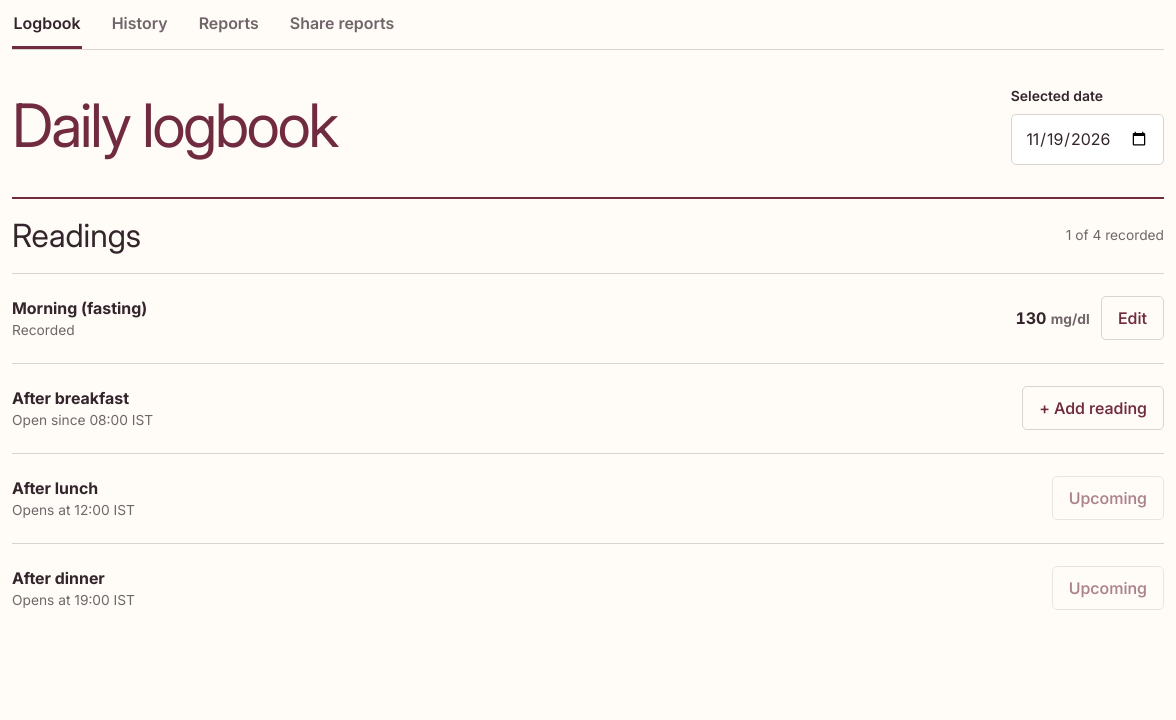
Test case: reading form › prefills and updates an existing reading with PATCH
This screenshot has width=1176, height=720.
expect the text "1 of 4 recorded" is shown: met, box 1066,226 -> 1164,246
Click the button "Edit" at point(1132, 318), box 1101,296 -> 1164,340
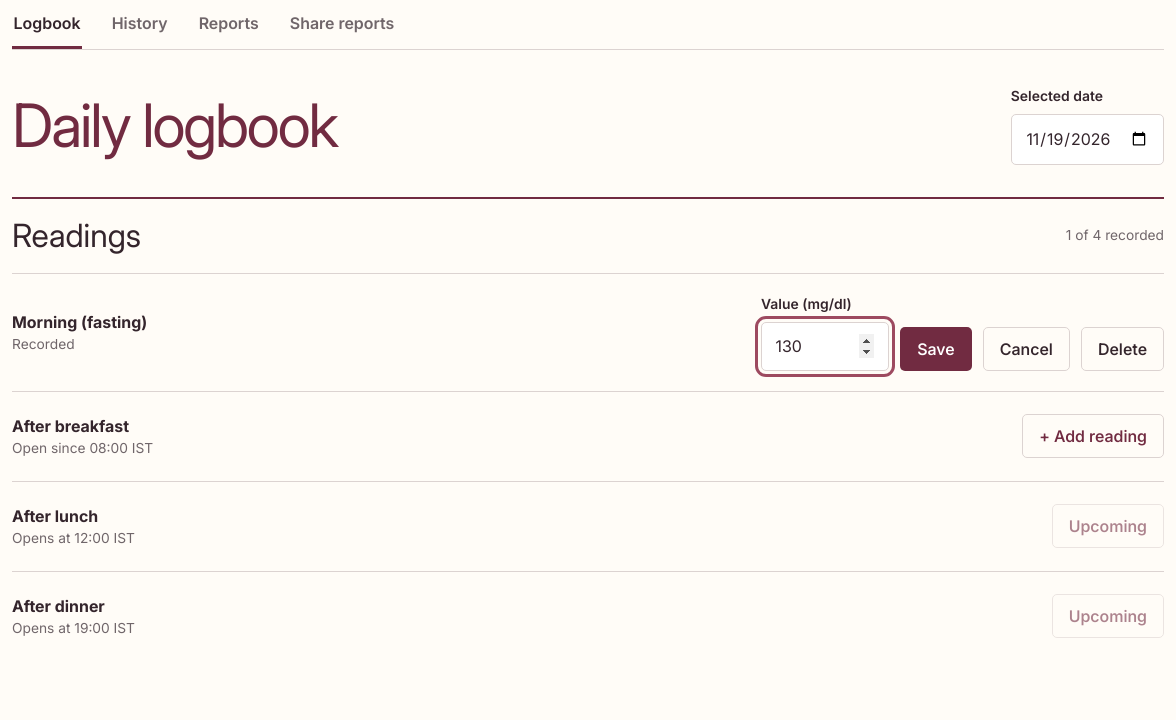
expect the number field labelled "Value (mg/dl)" holds "130": met
Replace the text in the number field labelled "Value (mg/dl)" with "145" at point(825, 346), box 761,322 -> 889,371
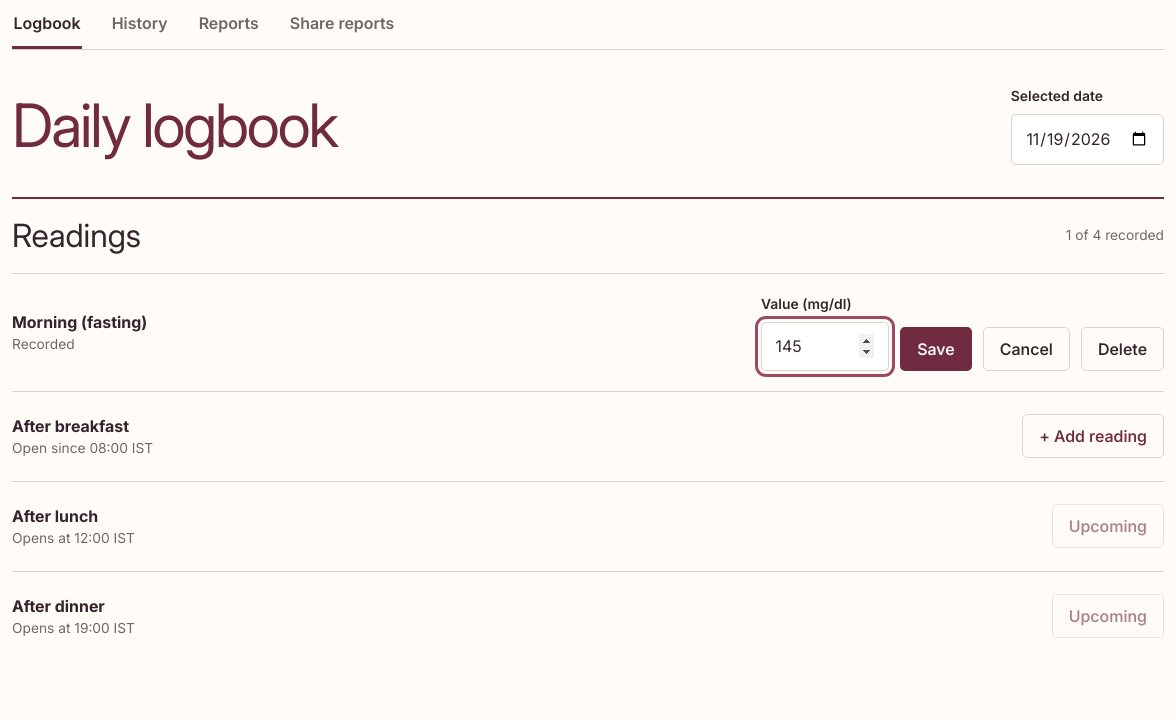
Click the button "Save" at point(936, 349), box 900,327 -> 972,371
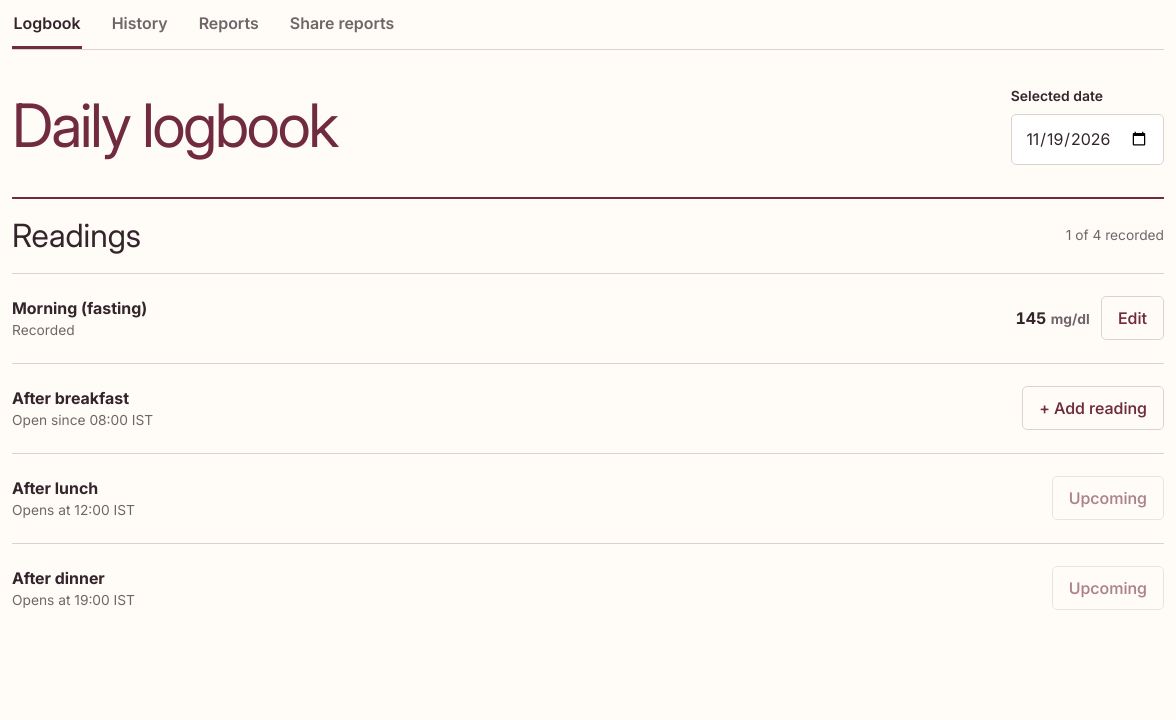
expect the text "145" is shown: met, box 1015,308 -> 1046,328
